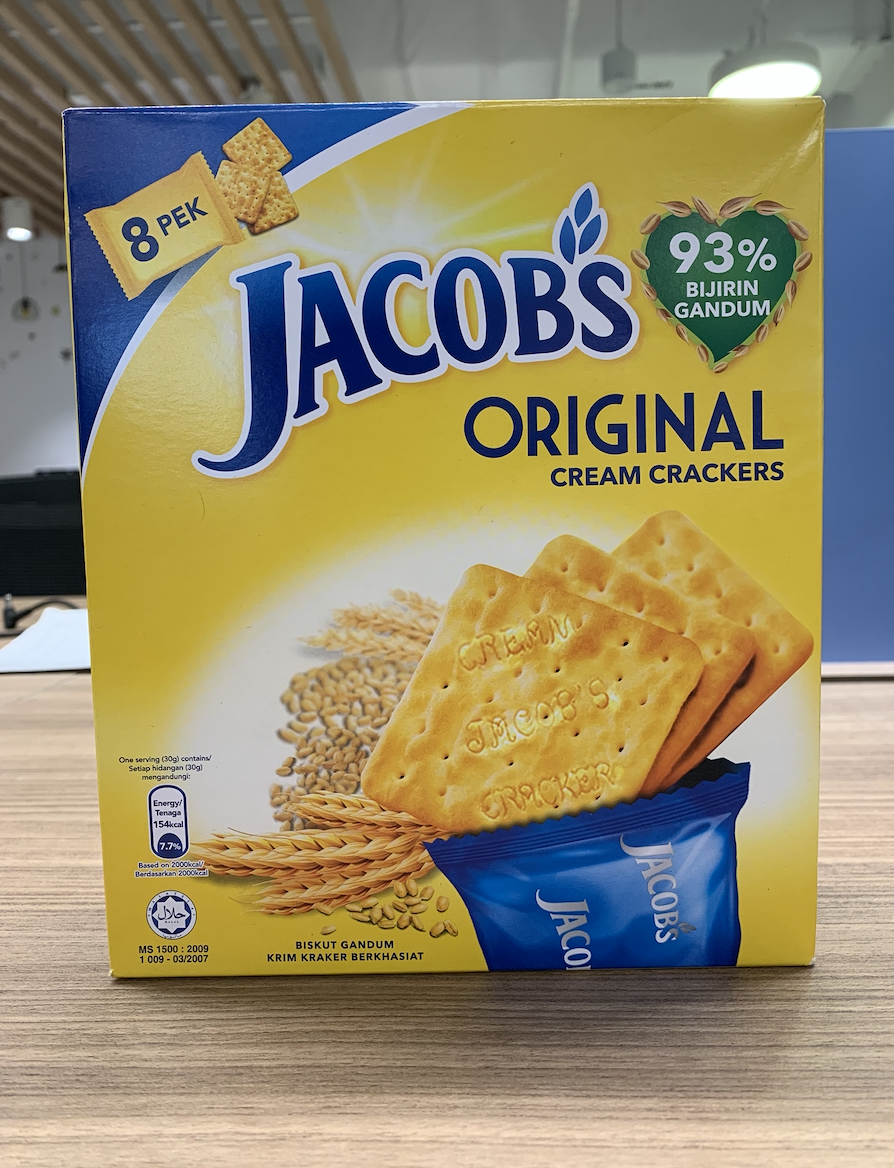crackers_200g-299g: (106, 118, 813, 970)
